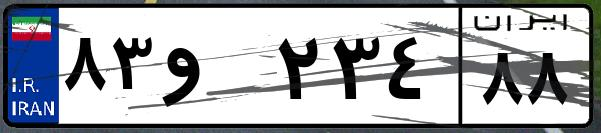2: (270, 28, 330, 110)
3: (330, 28, 385, 110), (110, 28, 158, 98)
4: (385, 28, 445, 110)
8: (57, 26, 110, 100), (475, 38, 525, 113), (525, 38, 570, 115)
و: (158, 20, 270, 120)
